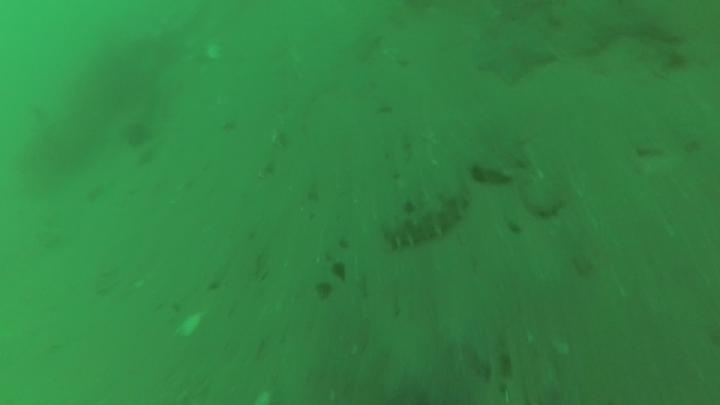holothurian: (380, 181, 473, 252)
starfish: (473, 25, 558, 87)
